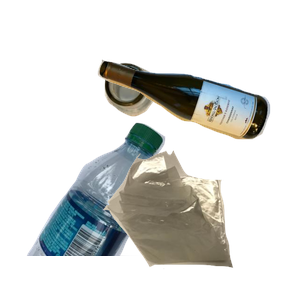glass: (95, 57, 300, 189)
metal: (102, 60, 252, 169)
plastic: (24, 120, 182, 300)
trash: (101, 148, 300, 300)
